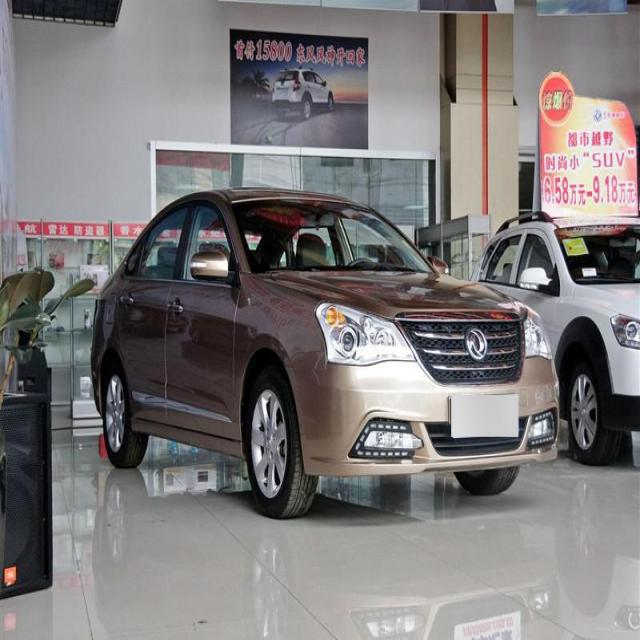door: (129, 204, 190, 430)
front_bumper: (285, 353, 561, 478)
front_glass: (228, 198, 434, 276)
front_left_side_light: (522, 304, 554, 361)
front_left_side_mirror: (430, 255, 450, 280)
front_right_side_door: (162, 197, 242, 446)
front_right_side_light: (314, 298, 416, 367)
front_right_side_mirror: (189, 250, 237, 284)
wheel: (101, 359, 150, 471)
